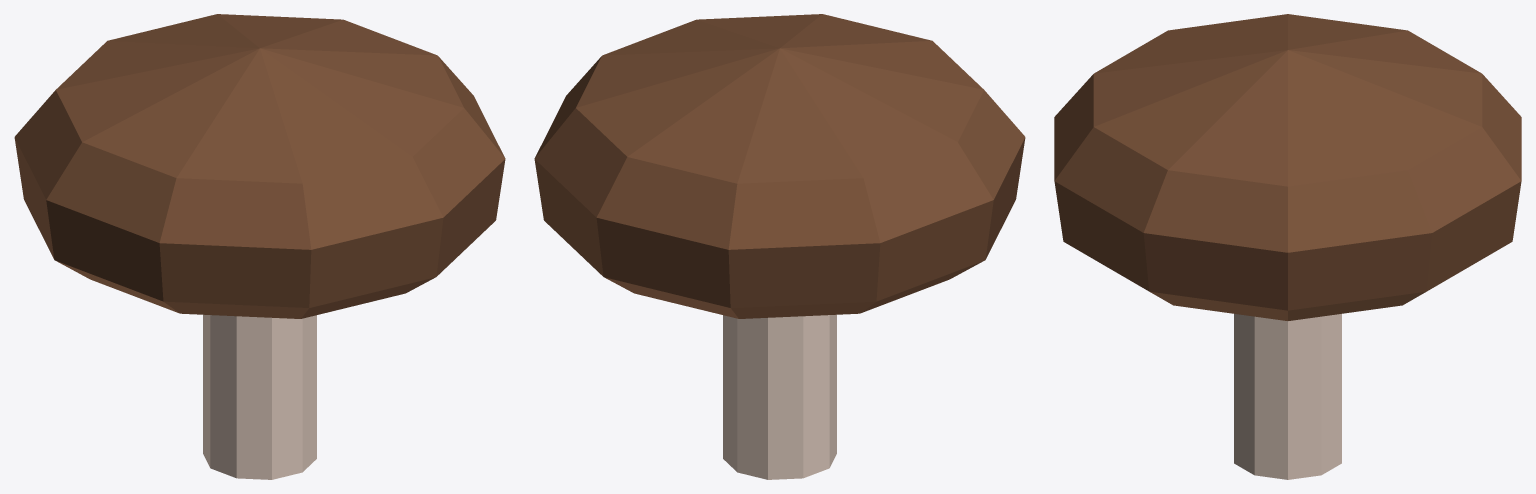
Rendered from BrownMushroom.fbx.
3 views of the same model, side by side, from view 1: azimuth 30°, elevation 25°; view 2: azimuth 150°, elevation 25°; view 3: azimuth 270°, elevation 25° (orthographic).
Parts seen in each view (by area): view 1: BrownMushroom; view 2: BrownMushroom; view 3: BrownMushroom.
Boxes of the visible parts, bbox=[...] form: BrownMushroom: bbox=[14, 14, 505, 479]; BrownMushroom: bbox=[534, 14, 1025, 479]; BrownMushroom: bbox=[1054, 14, 1521, 479].
Bounding box in the file's own units: 2 × 1.82 × 1.9.
